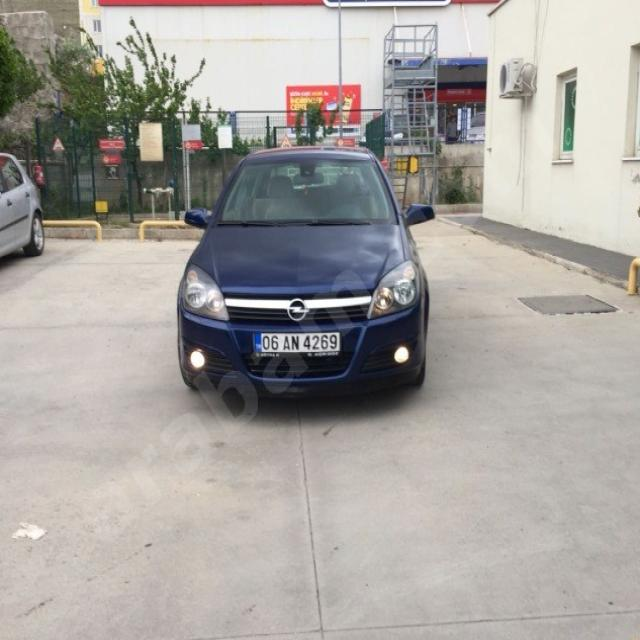license_plate: (252, 332, 340, 352)
